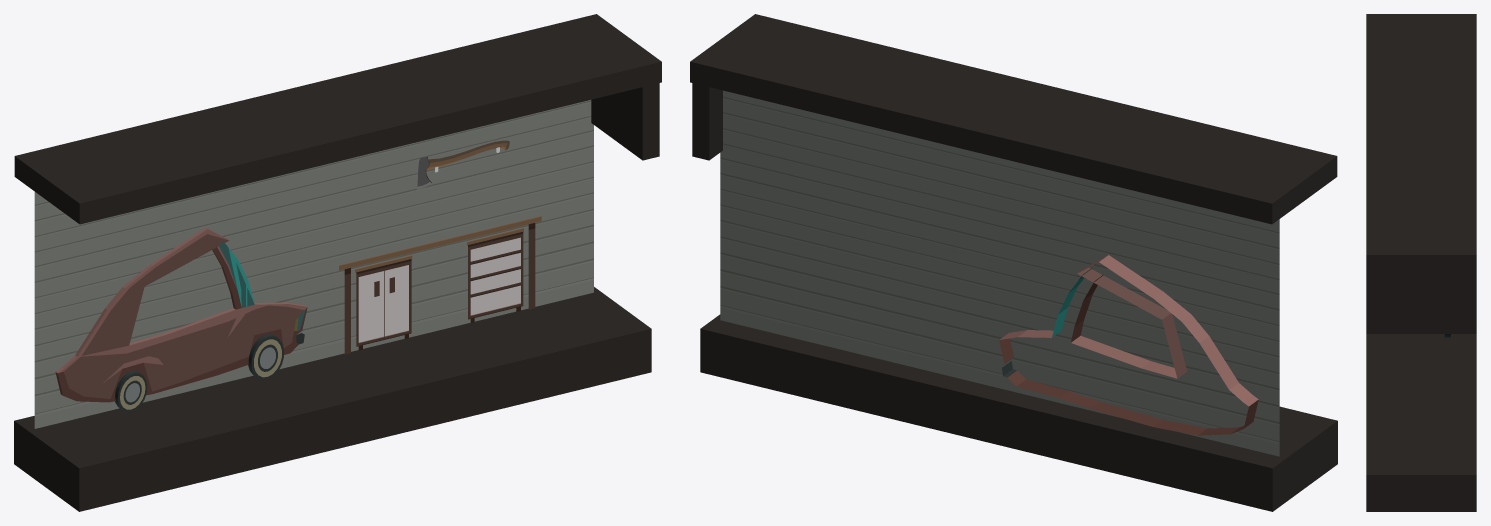
The model's file is test_garage.FBX.
3 renders of one model, left to right at view 1: azimuth 30°, elevation 25°; view 2: azimuth 150°, elevation 25°; view 3: azimuth 270°, elevation 25°, orthographic. The views are drawn at different scales.
Visible parts, largest first — view 1: Box001, Plane008, Plane009, toolboxes, toolboxes001, Object002, Plane004; view 2: Plane008, Box001, Plane009; view 3: Box001.
Boxes of the visible parts, x1,y1,x2,y2 form: Box001: [14, 14, 661, 511]; Plane008: [34, 100, 593, 428]; Plane009: [55, 227, 307, 411]; toolboxes: [355, 255, 412, 350]; toolboxes001: [467, 228, 523, 322]; Object002: [339, 216, 541, 354]; Plane004: [417, 140, 509, 189]; Plane008: [720, 90, 1279, 456]; Box001: [690, 14, 1337, 511]; Plane009: [999, 255, 1258, 435]; Box001: [1366, 14, 1476, 511].
Size of the model in its own units: 216 by 109 by 41.79.
